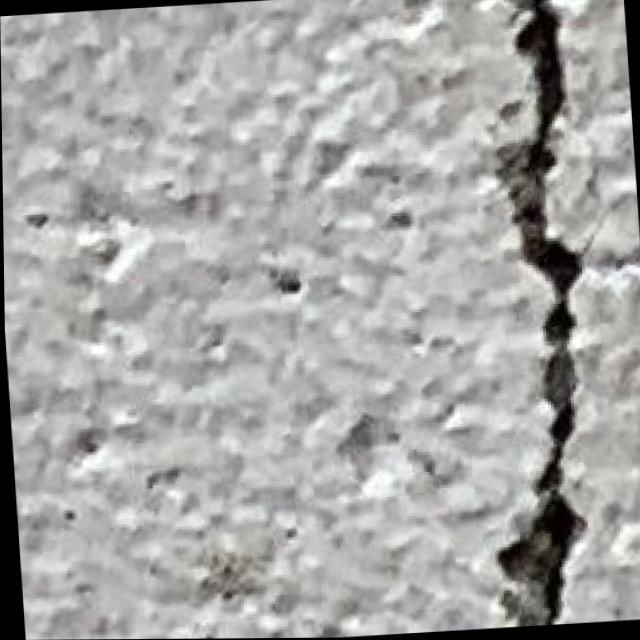Crack: (403, 0, 640, 632)
